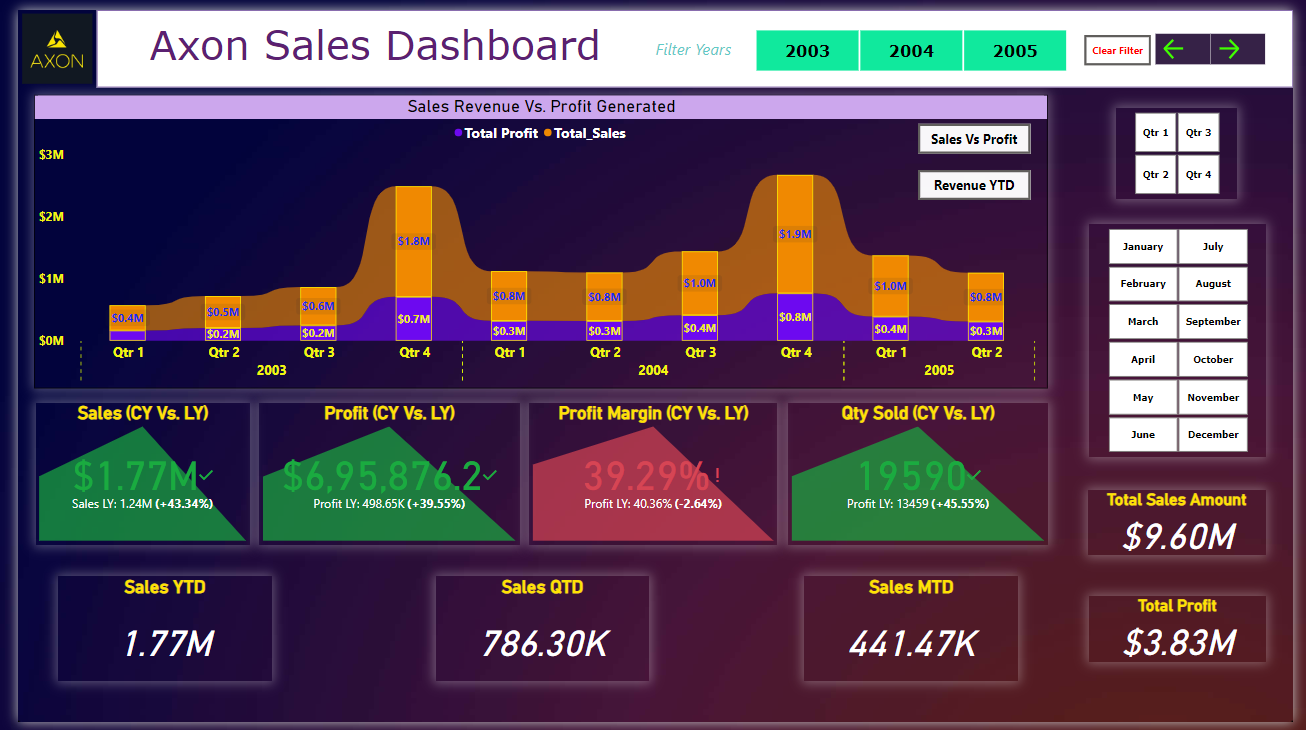

This screenshot's page, from the dashboard's own definition file:
{"tool":"powerbi","page":{"name":"Sales Vs Revenue","canvas":[1700,950],"ordinal":1},"visuals":[{"type":"slicer","title":"Quarter","fields":{"Values":["DATES.Date.Variation.Date Hierarchy.Quarter"]},"box":[1464,130.5,162.3,122.5],"z":1000},{"type":"slicer","title":"Quarter","fields":{"Values":["DATES.Date.Variation.Date Hierarchy.Month"]},"box":[1428,285.3,235,311.2],"z":2000},{"type":"card","title":"Total Sales Amount","fields":{"Values":["Sum(classicmodels orderdetails.Order_Booking_Value)"]},"box":[1426.4,640.3,236.7,87.5],"z":3000},{"type":"card","title":"Total Profit","fields":{"Values":["Base_Measures.Total Profit"]},"box":[1428,781.3,235,87.5],"z":4000},{"type":"shape","box":[104.8,0,1595.2,103.2],"z":5000},{"type":"textbox","box":[114.5,8.1,722.6,79],"z":6000},{"type":"slicer","title":"Year","fields":{"Values":["DATES.Date.Variation.Date Hierarchy.Year"]},"box":[958,19.5,463.6,68.1],"z":7000},{"type":"image","box":[0,0,104.8,103.2],"z":8000},{"type":"actionButton","box":[1590.1,32.4,72.9,40.5],"z":9000},{"type":"actionButton","box":[1421.5,34,89.1,40.5],"z":10000},{"type":"textbox","box":[837,31.8,127.3,44.6],"z":11000},{"type":"actionButton","box":[1517.2,32.4,72.9,40.5],"z":12000},{"type":"kpi","title":"Sales (CY Vs. LY)","fields":{"Indicator":["Base_Measures.Total_Sales"],"TrendLine":["DATES.Date.Variation.Date Hierarchy.Year"],"Goal":["Time Intelligence Calc.Last_Year_Sales"]},"box":[23.1,523.4,285.8,189.5],"z":13000},{"type":"kpi","title":"Profit (CY Vs. LY)","fields":{"Goal":["Time Intelligence Calc.Profit LY"],"Indicator":["Base_Measures.Total Profit"],"TrendLine":["DATES.Date.Variation.Date Hierarchy.Year"]},"box":[321.1,523.4,346.8,189.5],"z":14000},{"type":"kpi","title":"Profit Margin (CY Vs. LY)","fields":{"TrendLine":["DATES.Date.Variation.Date Hierarchy.Year"],"Indicator":["Base_Measures.Profit_Margin"],"Goal":["Time Intelligence Calc.Profit % LY"]},"box":[682.4,523.4,330.8,189.5],"z":15000},{"type":"kpi","title":"Qty Sold (CY Vs. LY)","fields":{"TrendLine":["DATES.Date.Variation.Date Hierarchy.Year"],"Indicator":["Base_Measures.Sales_Qty"],"Goal":["Time Intelligence Calc.Qty Sold LY"]},"box":[1026,523.4,346.8,189.5],"z":16000},{"type":"card","title":"Sales YTD","fields":{"Values":["Key Calc.Revenue YTD"]},"box":[52.5,754.3,284.8,140],"z":17000},{"type":"areaChart","fields":{"Y":["Key Calc.Revenue YTD","Key Calc.Revenue LY YTD"],"Category":["DATES.Date.Variation.Date Hierarchy.Year","DATES.Date.Variation.Date Hierarchy.Quarter"]},"box":[21.7,115,1351.7,391.7],"z":18000},{"type":"actionButton","box":[1200,151.7,150,40],"z":19000},{"type":"actionButton","box":[1200,213.3,150,40],"z":20000},{"type":"card","title":"Sales QTD","fields":{"Values":["Key Calc.Revenue QTD"]},"box":[557,754.3,284.8,140],"z":21000},{"type":"card","title":"Sales MTD","fields":{"Values":["Key Calc.Revenue MTD"]},"box":[1048.7,754.3,284.8,140],"z":22000}]}

Visuals, with their boxes in screenshot pixels (x1, y1, x2, y2), scaled from the page's 1700x950 canvas onto the 1306x730 screenshot:
"Quarter" slicer: x1=1125, y1=100, x2=1249, y2=194
"Quarter" slicer: x1=1097, y1=219, x2=1278, y2=458
"Total Sales Amount" card: x1=1096, y1=492, x2=1278, y2=559
"Total Profit" card: x1=1097, y1=600, x2=1278, y2=668
shape: x1=81, y1=0, x2=1305, y2=79
textbox: x1=88, y1=6, x2=643, y2=67
"Year" slicer: x1=736, y1=15, x2=1092, y2=67
image: x1=0, y1=0, x2=81, y2=79
actionButton: x1=1222, y1=25, x2=1278, y2=56
actionButton: x1=1092, y1=26, x2=1160, y2=57
textbox: x1=643, y1=24, x2=741, y2=59
actionButton: x1=1166, y1=25, x2=1222, y2=56
"Sales (CY Vs. LY)" kpi: x1=18, y1=402, x2=237, y2=548
"Profit (CY Vs. LY)" kpi: x1=247, y1=402, x2=513, y2=548
"Profit Margin (CY Vs. LY)" kpi: x1=524, y1=402, x2=778, y2=548
"Qty Sold (CY Vs. LY)" kpi: x1=788, y1=402, x2=1055, y2=548
"Sales YTD" card: x1=40, y1=580, x2=259, y2=687
areaChart - Key Calc.Revenue YTD x Key Calc.Revenue LY YTD: x1=17, y1=88, x2=1055, y2=389
actionButton: x1=922, y1=117, x2=1037, y2=147
actionButton: x1=922, y1=164, x2=1037, y2=195
"Sales QTD" card: x1=428, y1=580, x2=647, y2=687
"Sales MTD" card: x1=806, y1=580, x2=1024, y2=687
